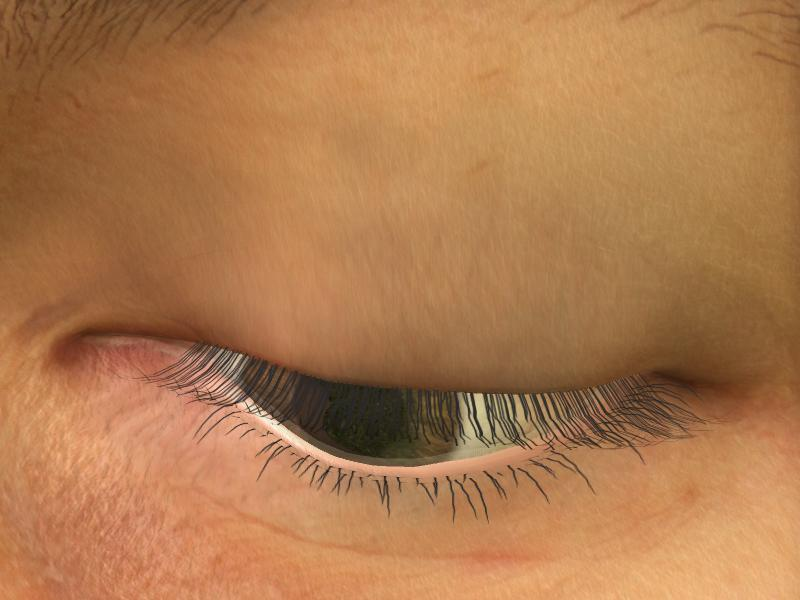eye: (239, 353, 467, 470)
